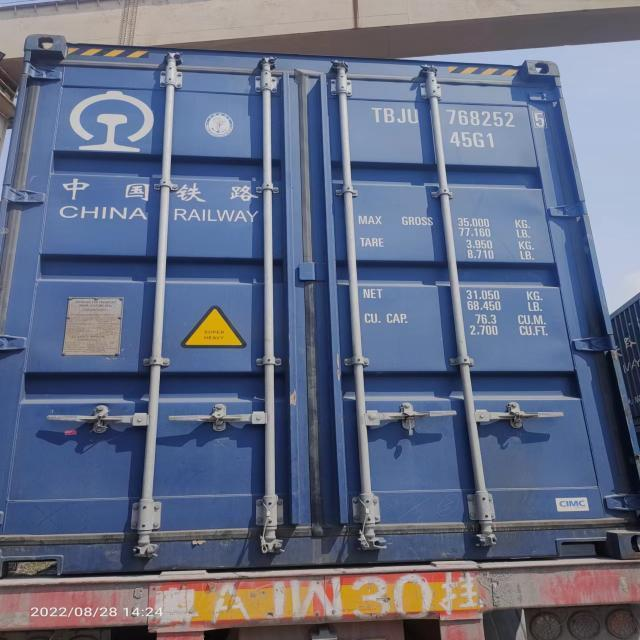ISO: (452, 132, 498, 150)
container_number: (374, 110, 554, 128)
